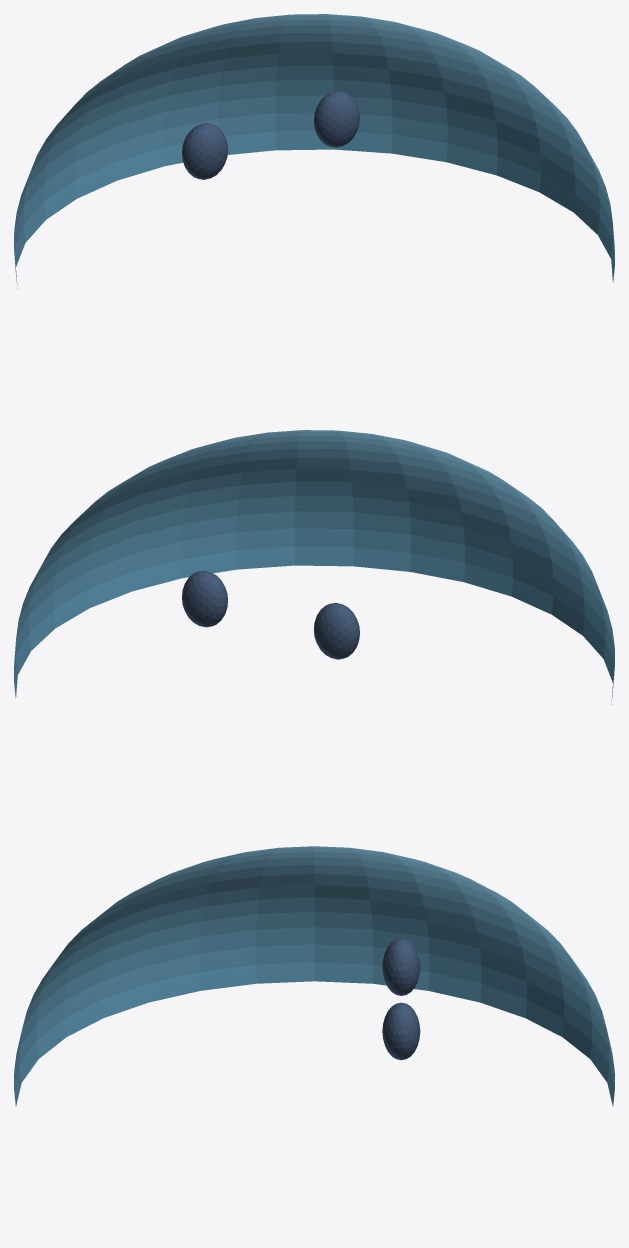
File: slime_assembled.glb
3 views of the same model, one above another, from view 1: azimuth 30°, elevation 25°; view 2: azimuth 150°, elevation 25°; view 3: azimuth 270°, elevation 25° (orthographic).
Visible parts, largest first — view 1: outer_dome, world; view 2: outer_dome, world; view 3: outer_dome, world.
Boxes of the visible parts, x1,y1,x2,y2 form: outer_dome: (14, 14, 614, 288); world: (182, 91, 359, 179); outer_dome: (14, 430, 614, 704); world: (182, 570, 359, 659); outer_dome: (14, 846, 614, 1106); world: (382, 938, 420, 1060).
Bounding box in the file's own units: 1.11 × 0.45 × 1.11.
